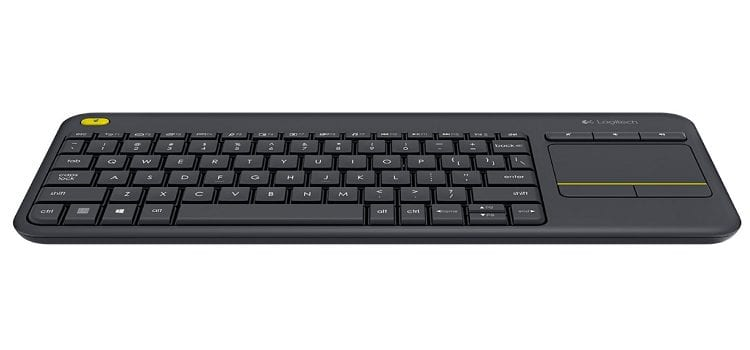logitech-keyboard-k400: (15, 110, 724, 249)
